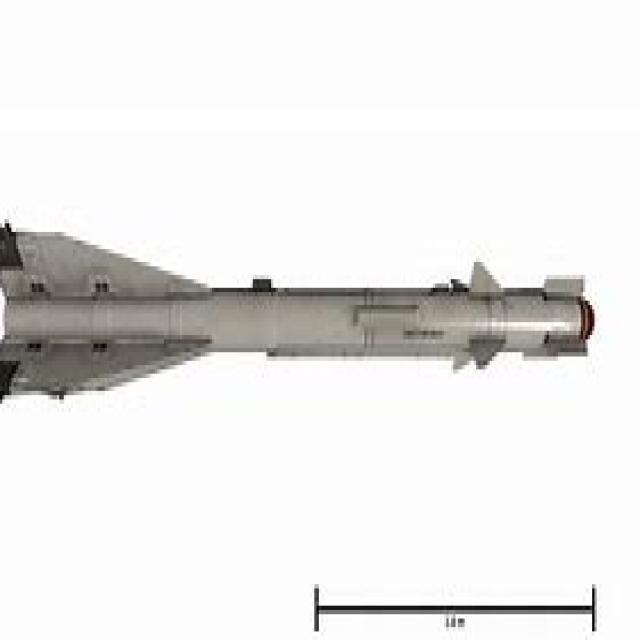missile: (5, 237, 593, 400)
